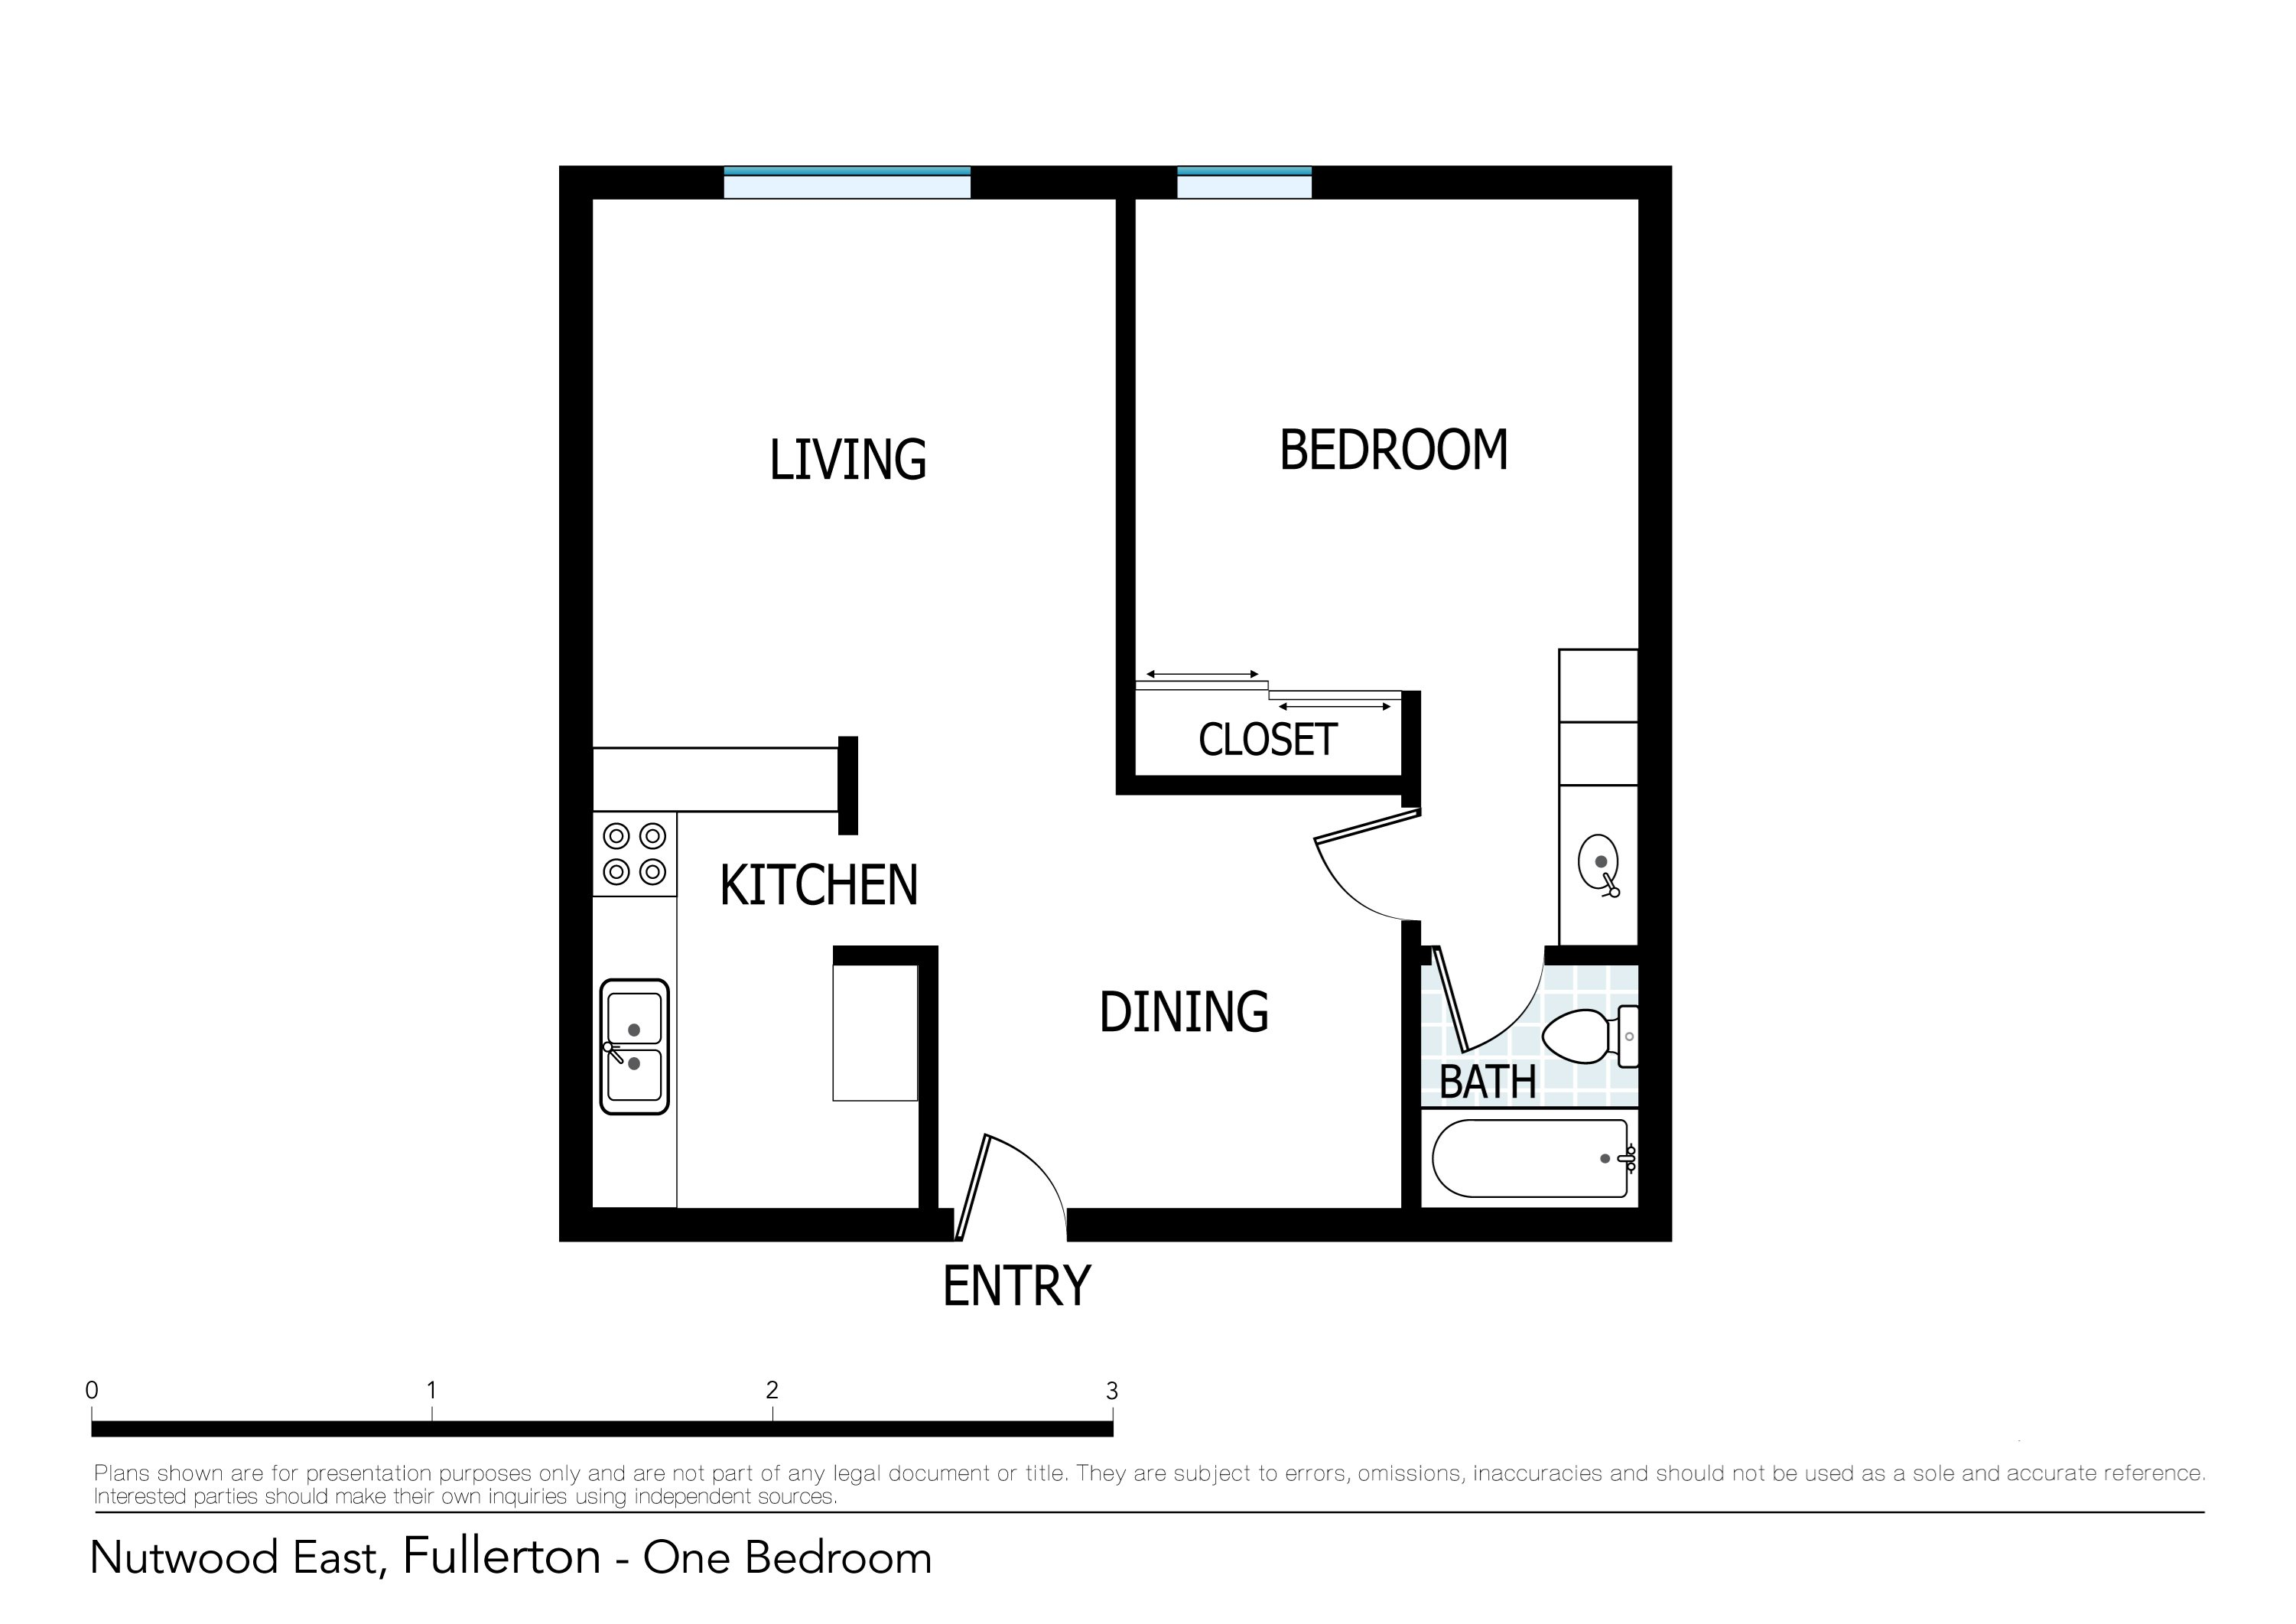door: (952, 1125, 1070, 1229), (1426, 956, 1542, 1060), (1288, 816, 1404, 919)
